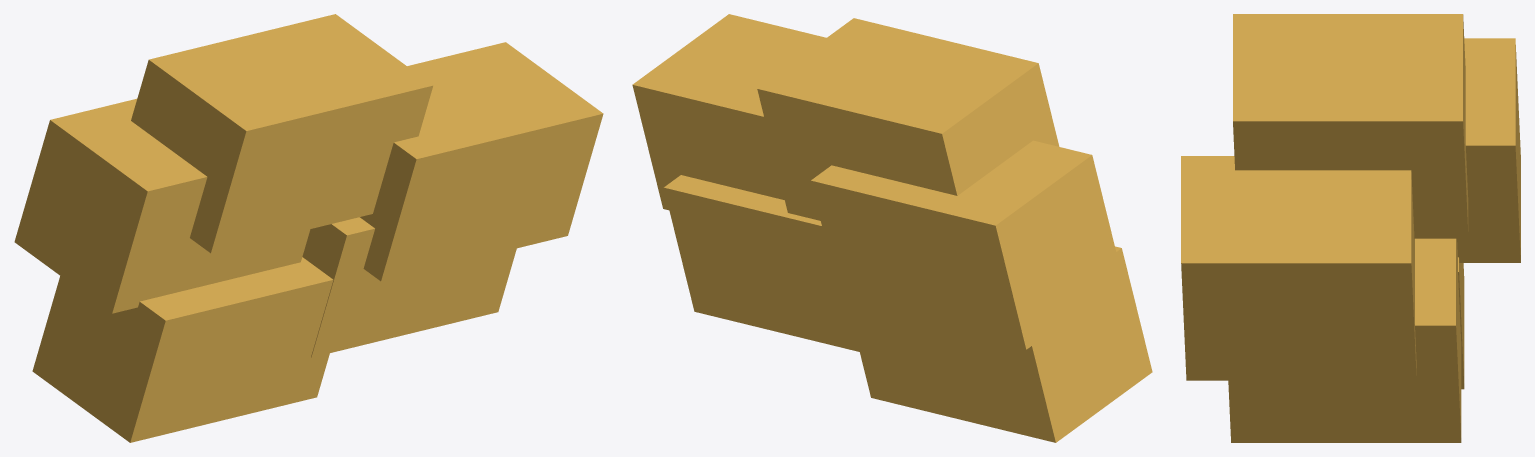
Rendered from Pudding_Visual.fbx.
3 renders of one model, left to right at view 1: azimuth 30°, elevation 25°; view 2: azimuth 150°, elevation 25°; view 3: azimuth 270°, elevation 25°, orthographic. The views are drawn at different scales.
Visible parts, largest first — view 1: Cube.001, Cube.004, Cube.002, Cube.003, Cube; view 2: Cube.003, Cube.001, Cube.002, Cube, Cube.004; view 3: Cube.004, Cube.001, Cube, Cube.003, Cube.002.
Part boxes in pixels (bbox=[...]): Cube.001: bbox=[131, 14, 433, 253]; Cube.004: bbox=[360, 42, 603, 281]; Cube.002: bbox=[32, 257, 333, 442]; Cube.003: bbox=[14, 98, 310, 313]; Cube: bbox=[302, 217, 516, 357]; Cube.003: bbox=[811, 140, 1122, 349]; Cube.001: bbox=[757, 18, 1059, 220]; Cube.002: bbox=[848, 246, 1152, 442]; Cube: bbox=[663, 175, 859, 351]; Cube.004: bbox=[632, 14, 826, 210]; Cube.004: bbox=[1181, 156, 1416, 380]; Cube.001: bbox=[1233, 14, 1468, 238]; Cube: bbox=[1228, 238, 1461, 442]; Cube.003: bbox=[1457, 38, 1520, 262]; Cube.002: bbox=[1458, 257, 1464, 389].
Size of the model in its own units: 13.59 by 8.18 by 7.53.
